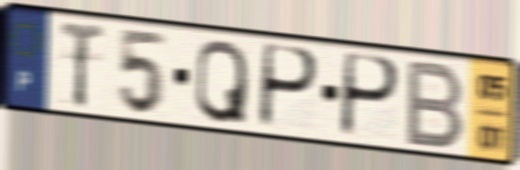5: (115, 25, 169, 118)
B: (402, 57, 468, 152)
P: (255, 40, 322, 133), (337, 49, 403, 142)
Q: (192, 36, 250, 126)
T: (57, 18, 107, 111)
